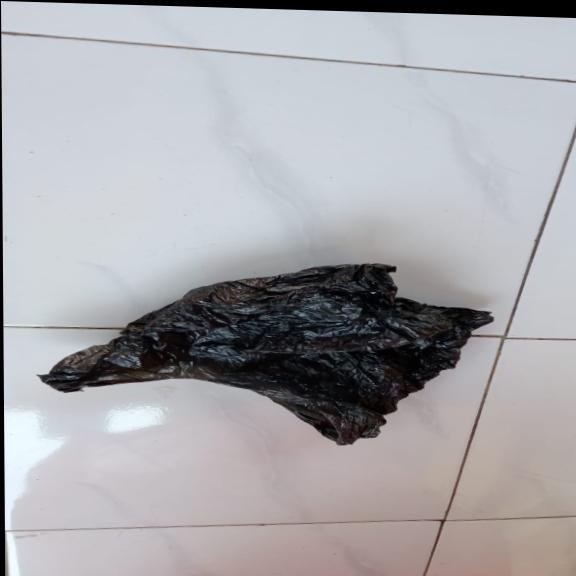Plastik: (36, 252, 495, 451)
